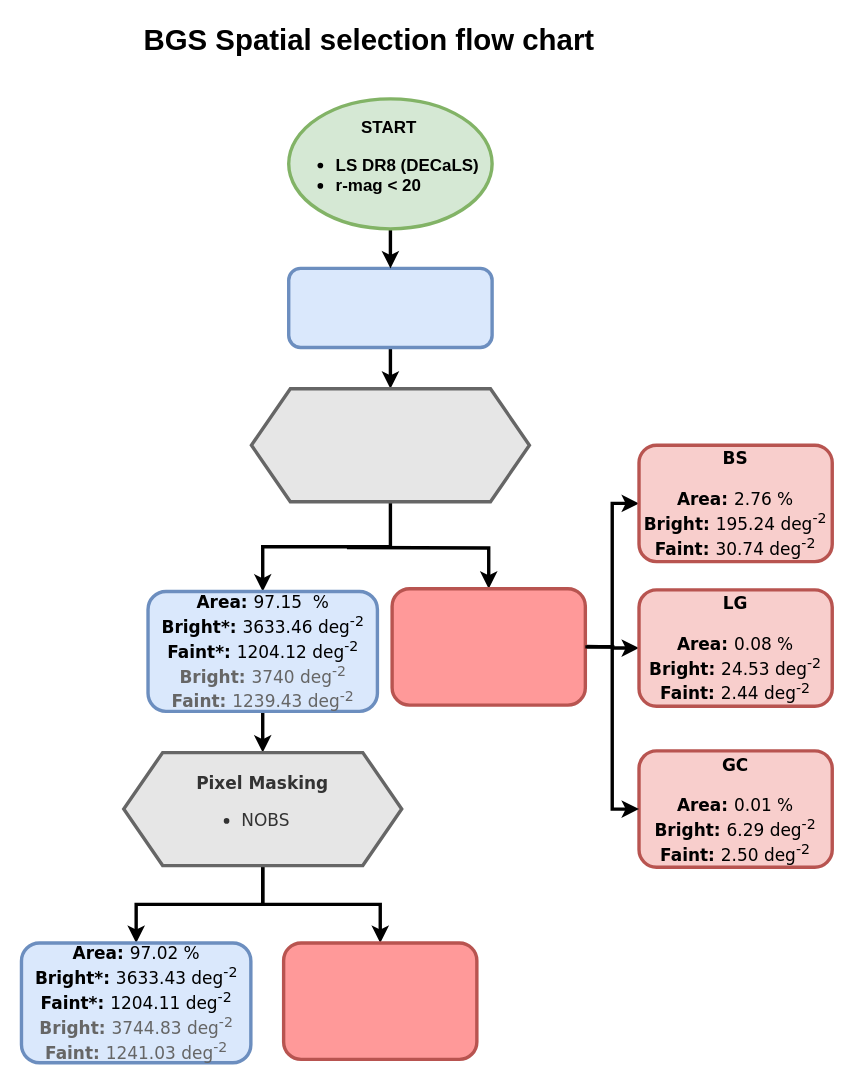
Image size: 853x1084. Some labels were removed from this diagram. Each missing label, with the centre of its shape:
Area: 9716.98 deg 2 Bright: 3857.30 deg -2 Faint: 1239.50 deg -2: the point at 389,307
BS or LG or GC Area: 2.85 % Bright: 223.85 deg -2 Faint: 35.38 deg -2: the point at 488,646
Geometric Masking Bright Stars (BS) Large Galaxies (LG) Globular Cluster (GC): the point at 390,444
NOBS Area: 0.13 % Bright: 0.03 deg -2 Faint: 0.01 deg -2: the point at 379,1001
